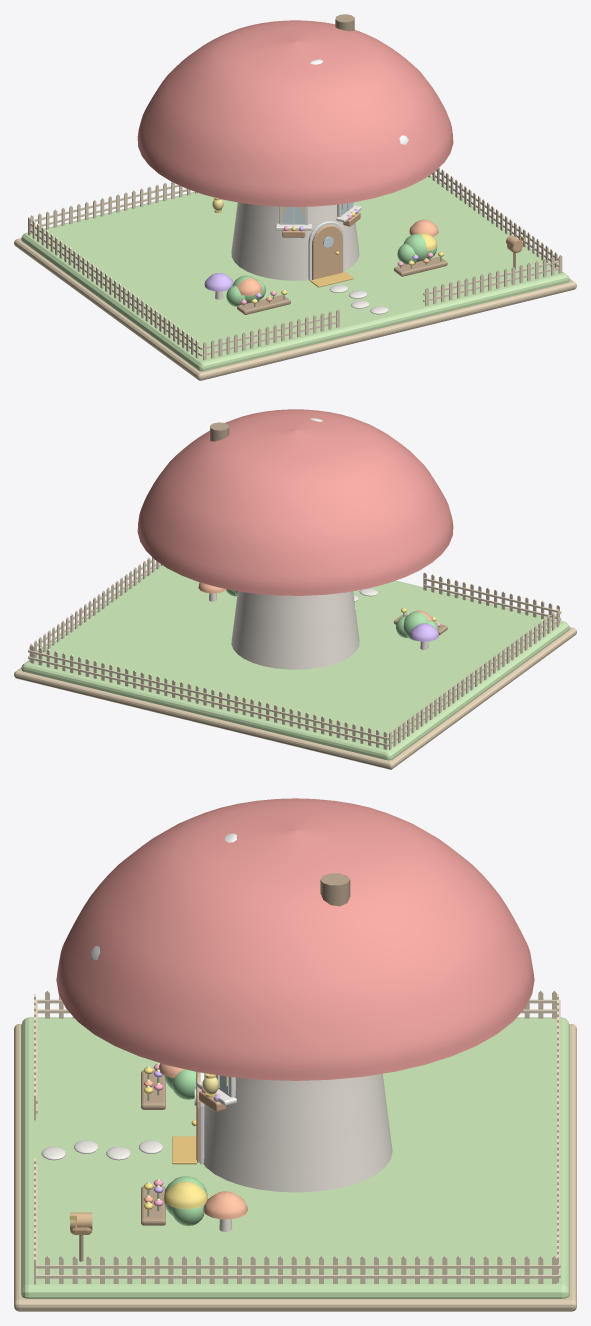
Rendered from building_forest_L08.glb.
3 views of the same model, one above another, from view 1: azimuth 30°, elevation 25°; view 2: azimuth 150°, elevation 25°; view 3: azimuth 270°, elevation 25° (orthographic). The views are drawn at different scales.
Parts seen in each view (by area): view 1: forest_L8; view 2: forest_L8; view 3: forest_L8.
Boxes of the visible parts, x1,y1,x2,y2 form: forest_L8: (14,14,576,380); forest_L8: (14,409,576,769); forest_L8: (14,798,576,1311).
Bounding box in the file's own units: 26.61 × 15.17 × 22.6.
